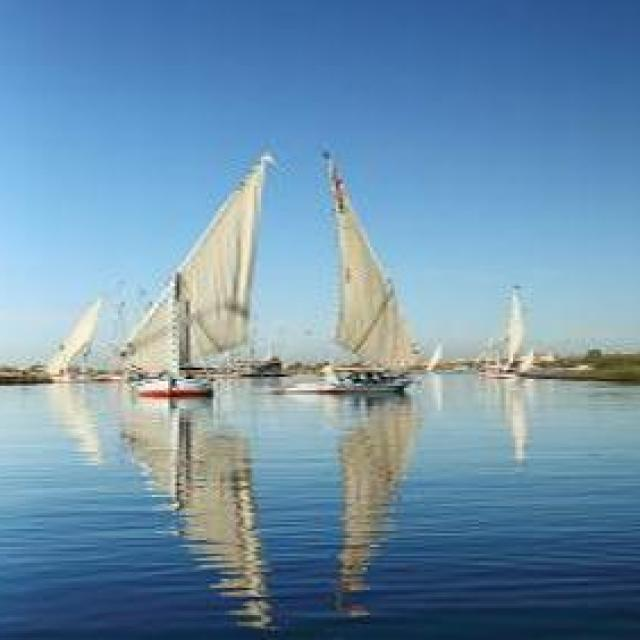sailboat: (117, 152, 266, 397), (310, 146, 428, 393), (39, 286, 109, 382), (474, 278, 538, 380), (421, 332, 451, 378)
